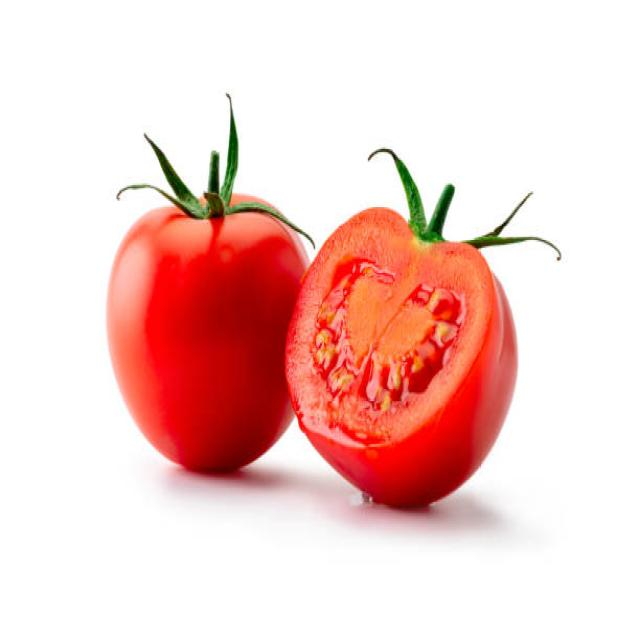Tomato: (292, 155, 552, 512)
